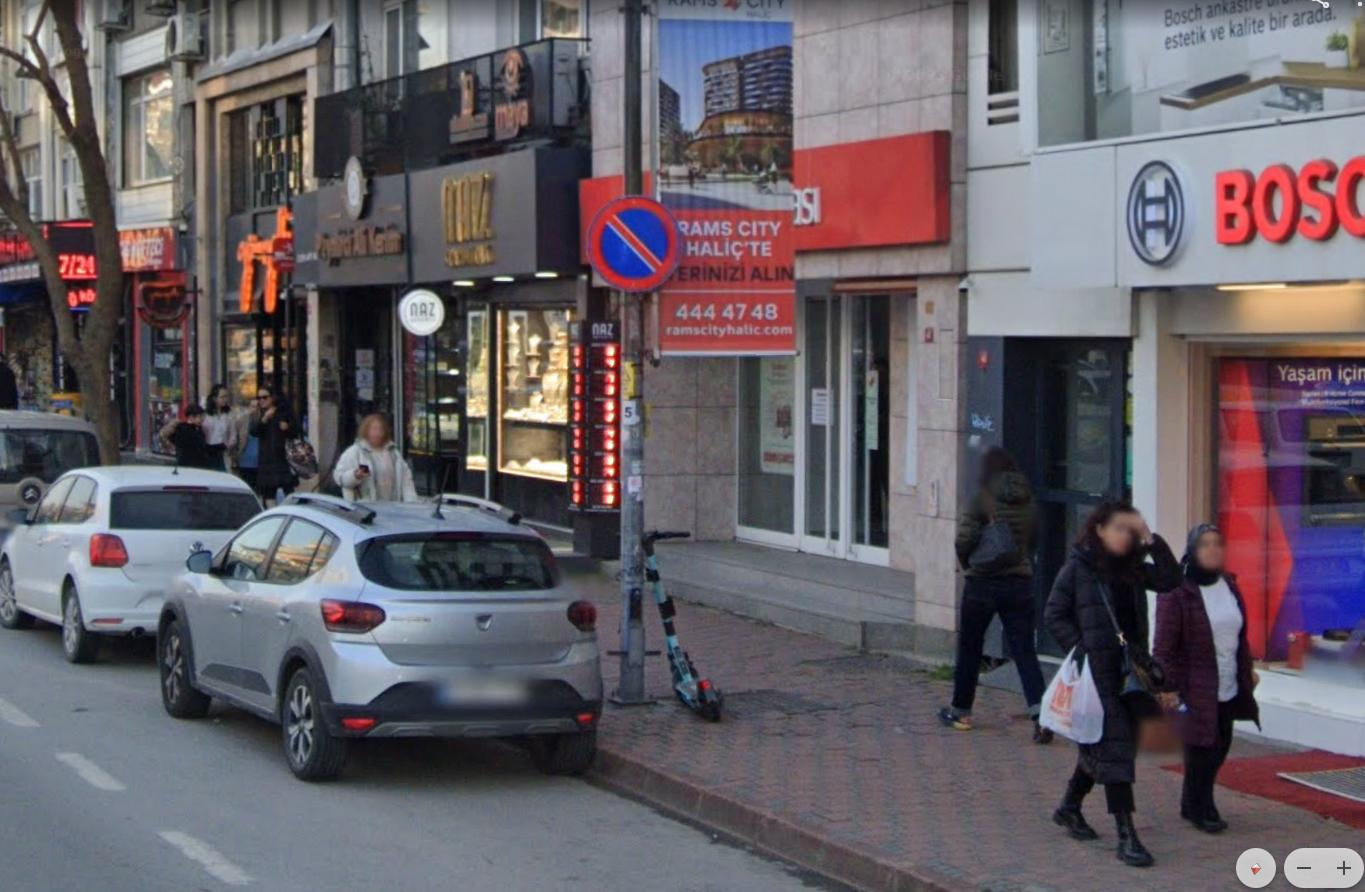nopark: (596, 201, 672, 287)
